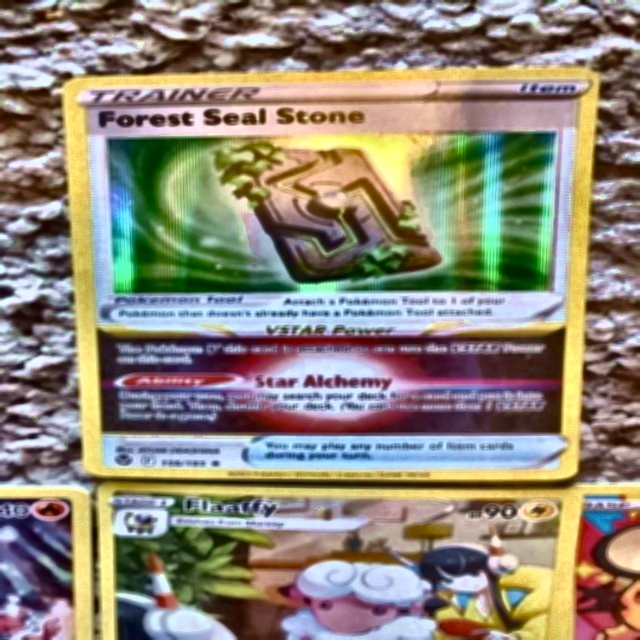card: (61, 66, 601, 482), (97, 480, 589, 640)
